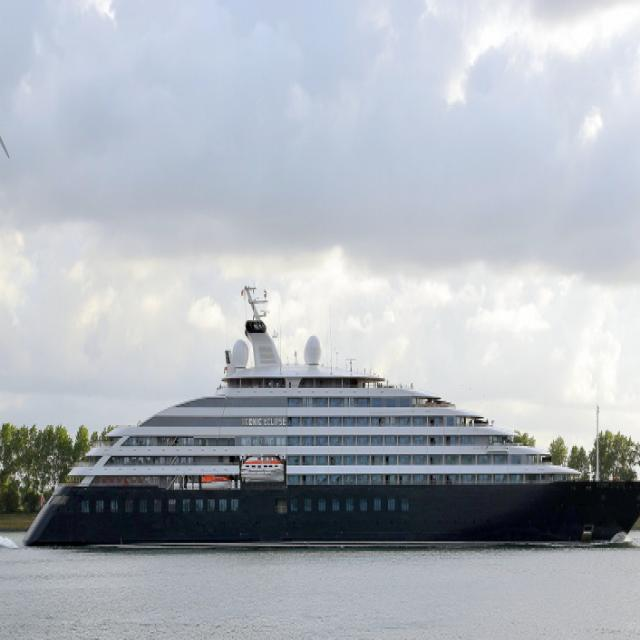cruises: (16, 281, 640, 559)
